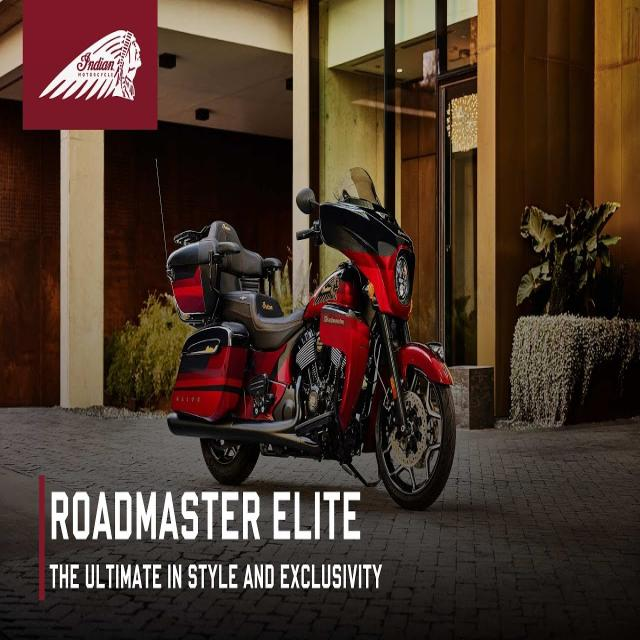motorcycle: (166, 167, 456, 509)
